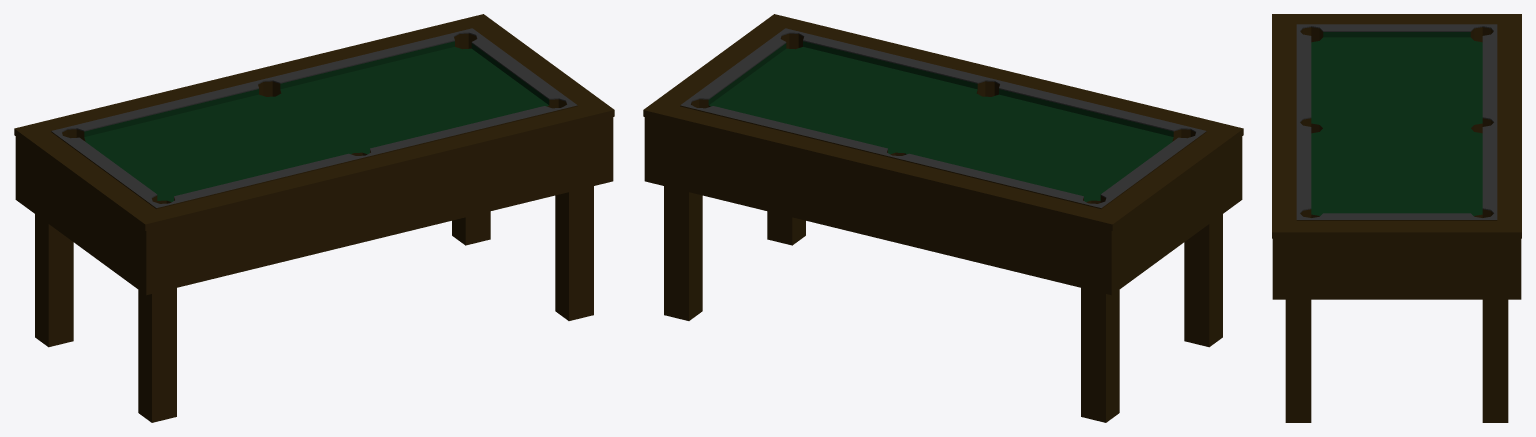
The model's file is pool_table.fbx.
3 renders of one model, left to right at view 1: azimuth 30°, elevation 25°; view 2: azimuth 150°, elevation 25°; view 3: azimuth 270°, elevation 25°, orthographic. The views are drawn at different scales.
Parts seen in each view (by area): view 1: Plane; view 2: Plane; view 3: Plane.
Part boxes in pixels (x1,y1,x2,y2): Plane: (14, 14, 614, 422); Plane: (643, 14, 1243, 422); Plane: (1272, 14, 1521, 422).
Size of the model in its own units: 473 by 200 by 229.
